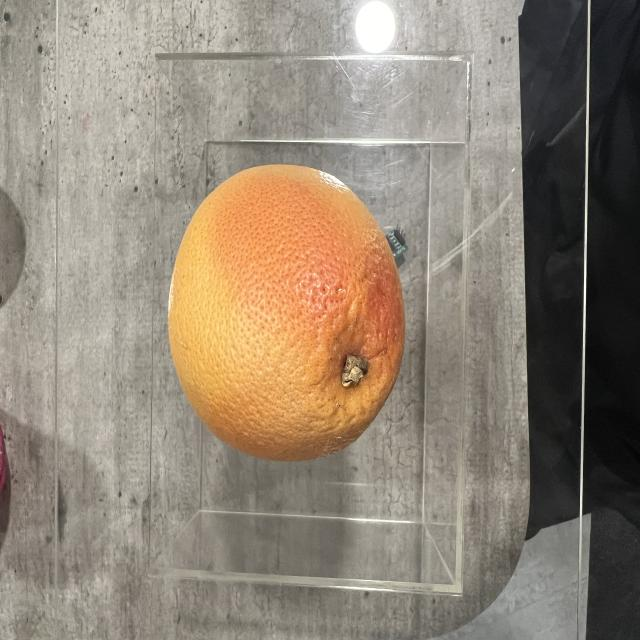grapefruit: (172, 162, 402, 462)
